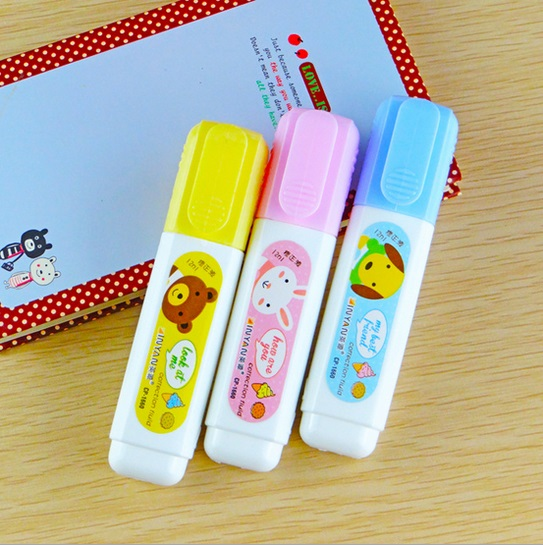Correction_fluid: (200, 104, 364, 478), (295, 92, 460, 462), (106, 116, 268, 489)
